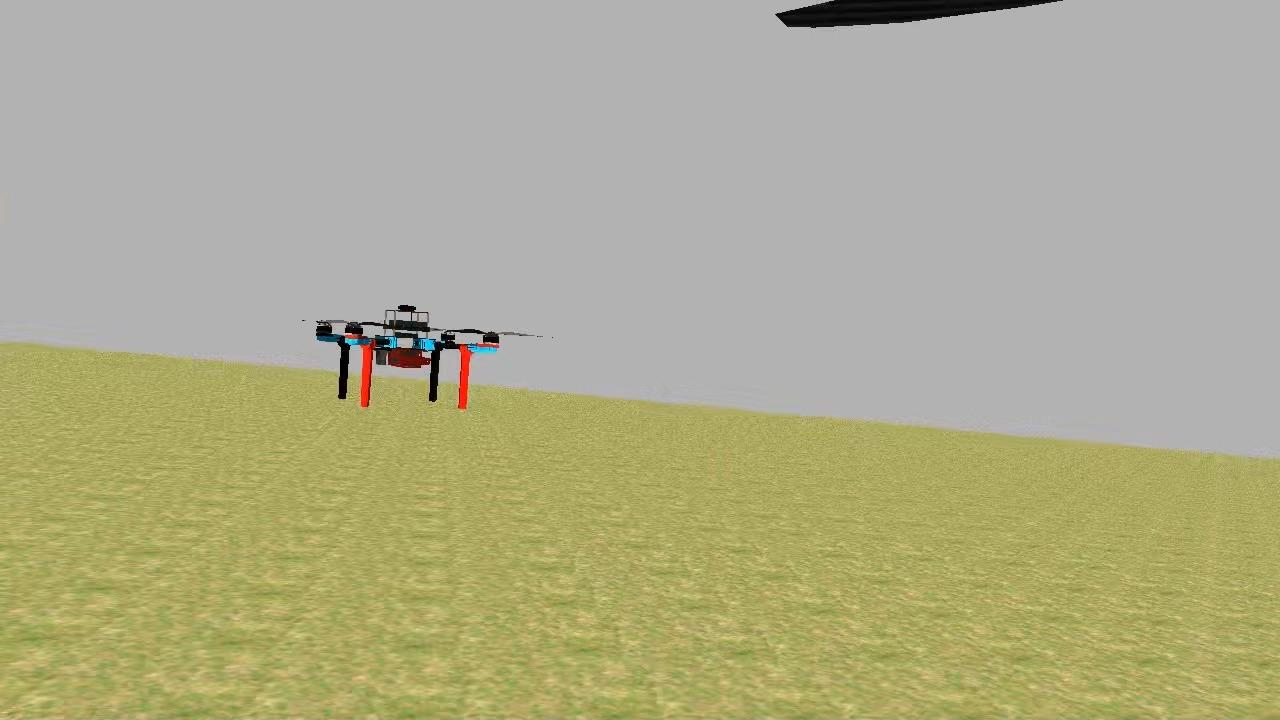UAV: (308, 298, 508, 416)
